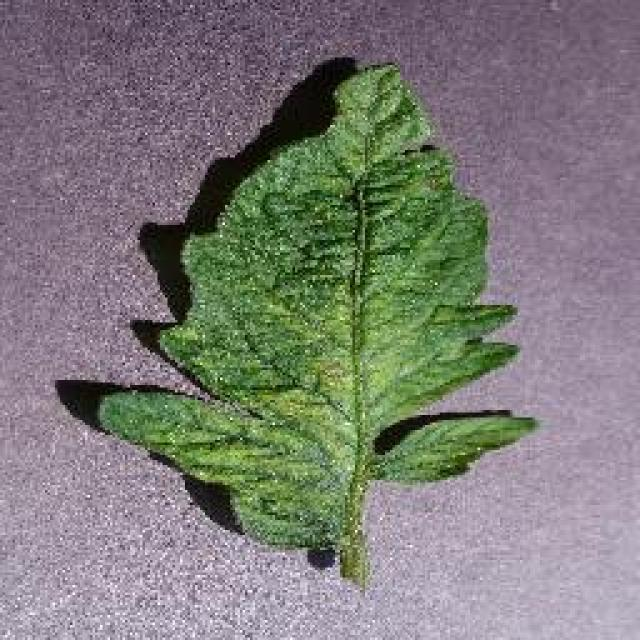Tomato spider mites leaf: (95, 61, 533, 551)
